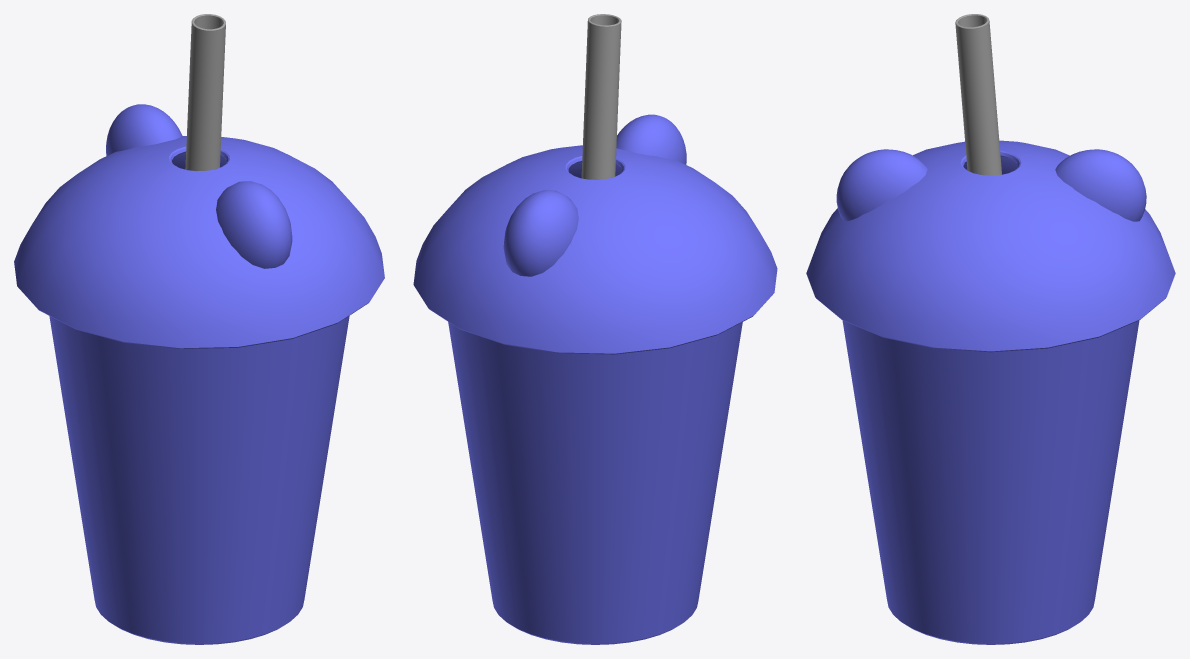
File: bubblletea.fbx
The picture shows the model from 3 angles, left to right: view 1: azimuth 30°, elevation 25°; view 2: azimuth 150°, elevation 25°; view 3: azimuth 270°, elevation 25°; orthographic projection.
Visible parts, largest first — view 1: gobelet, couvercle, paille; view 2: gobelet, couvercle, paille; view 3: gobelet, couvercle, paille.
Boxes of the visible parts, x1=… form: gobelet: x1=49, y1=316, x2=349, y2=644; couvercle: x1=14, y1=104, x2=384, y2=348; paille: x1=185, y1=14, x2=225, y2=171; gobelet: x1=448, y1=322, x2=742, y2=644; couvercle: x1=413, y1=114, x2=777, y2=354; paille: x1=581, y1=14, x2=621, y2=179; gobelet: x1=842, y1=320, x2=1139, y2=644; couvercle: x1=806, y1=140, x2=1175, y2=352; paille: x1=955, y1=14, x2=1001, y2=175.
Size of the model in its own units: 49.92 by 86.84 by 49.92.
